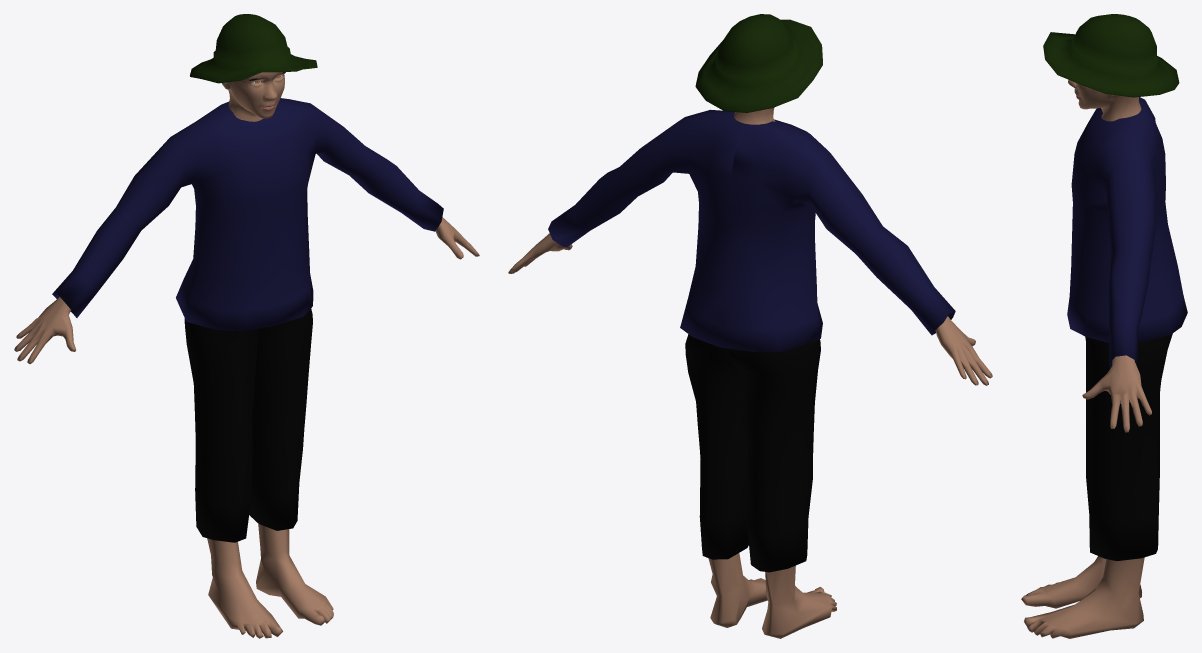
The model's file is char-12.fbx.
3 views of the same model, side by side, from view 1: azimuth 30°, elevation 25°; view 2: azimuth 150°, elevation 25°; view 3: azimuth 270°, elevation 25° (orthographic). The views are drawn at different scales.
Parts seen in each view (by area): view 1: mu vai; view 2: mu vai; view 3: mu vai.
Part boxes in pixels (x1,y1,x2,y2): mu vai: (14, 14, 479, 638); mu vai: (508, 14, 992, 638); mu vai: (1021, 14, 1187, 638).
Bounding box in the file's own units: 142 × 173 × 43.71.
